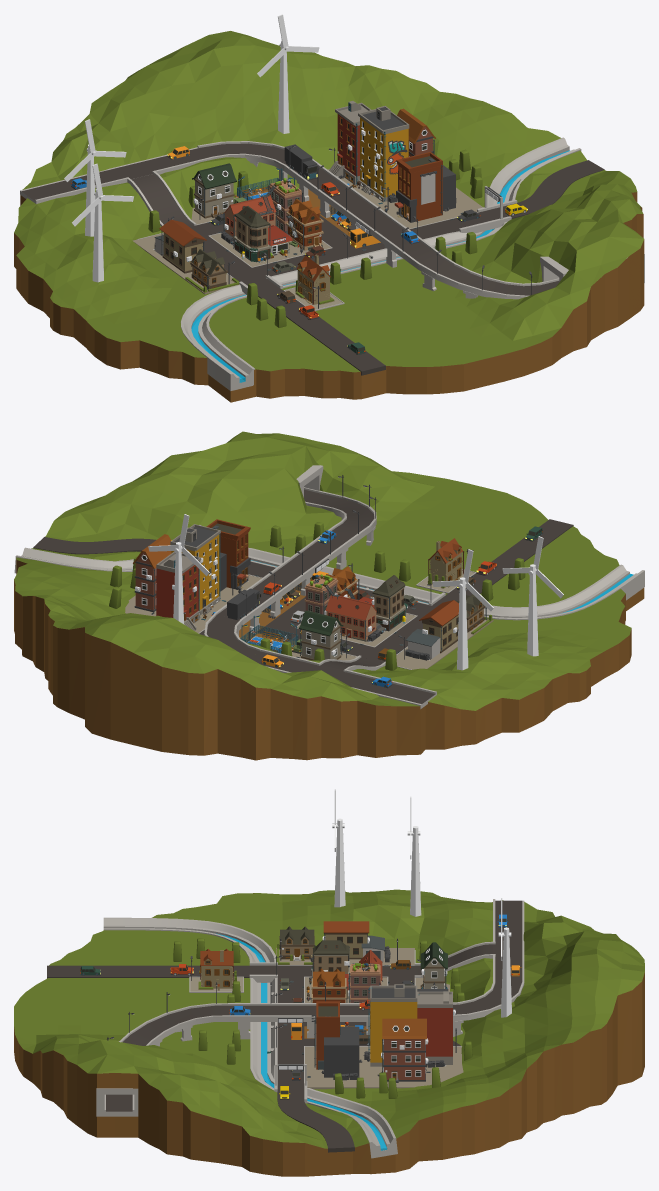
File: city.glb
3 views of the same model, one above another, from view 1: azimuth 30°, elevation 25°; view 2: azimuth 150°, elevation 25°; view 3: azimuth 270°, elevation 25° (orthographic). The views are drawn at different scales.
Visible parts, largest first — view 1: Plane1145, Line459_concret_0, Plane063_asphalt_0, Rectangle008, Rectangle036, Box16203_wall10_0, Rectangle034_asphalt_0, Line454_asphalt_0, Rectangle038, Rectangle034_concret_0, Plane1167_sidewalk_0, Line462_water_0 (+12 smaller); view 2: Plane1145, Line459_concret_0, Plane063_asphalt_0, Rectangle008, Rectangle036, Line454_asphalt_0, Box16216_Meat_0, Rectangle034_asphalt_0, Box16203_wall10_0, Rectangle035_asphalt_0, Plane1167_sidewalk_0, Cylinder1808_white_0 (+12 smaller); view 3: Plane1145, Line459_concret_0, Plane063_asphalt_0, Plane1167_sidewalk_0, Rectangle036, Line454_asphalt_0, Rectangle008, Box12217_black_0, Rectangle034_asphalt_0, Box16216_Meat_0, Box16203_wall10_0, Line462_water_0 (+14 smaller).
Part boxes in pixels (x1,y1,x2,y2): Plane1145: (14, 31, 644, 402); Line459_concret_0: (180, 137, 581, 390); Plane063_asphalt_0: (190, 213, 488, 375); Rectangle008: (284, 159, 420, 250); Rectangle036: (20, 147, 213, 203); Box16203_wall10_0: (360, 117, 408, 197); Rectangle034_asphalt_0: (397, 240, 559, 295); Line454_asphalt_0: (478, 160, 604, 220); Rectangle038: (126, 171, 196, 226); Rectangle034_concret_0: (393, 238, 558, 299); Plane1167_sidewalk_0: (327, 169, 482, 228); Line462_water_0: (191, 150, 569, 382); Plane1145: (14, 431, 644, 760); Line459_concret_0: (14, 547, 644, 620); Plane063_asphalt_0: (199, 519, 573, 662); Rectangle008: (215, 534, 350, 624); Rectangle036: (250, 649, 436, 709); Line454_asphalt_0: (33, 537, 155, 554); Box16216_Meat_0: (156, 565, 198, 619); Rectangle034_asphalt_0: (304, 490, 374, 541); Box16203_wall10_0: (171, 534, 219, 610); Rectangle035_asphalt_0: (207, 615, 259, 658); Plane1167_sidewalk_0: (125, 575, 261, 633); Cylinder1808_white_0: (457, 577, 468, 670); Plane1145: (14, 889, 644, 1176); Line459_concret_0: (103, 917, 397, 1158); Plane063_asphalt_0: (47, 965, 460, 1082); Plane1167_sidewalk_0: (305, 1046, 463, 1089); Rectangle036: (493, 899, 524, 983); Line454_asphalt_0: (277, 1083, 354, 1152); Rectangle008: (233, 1003, 369, 1021); Box12217_black_0: (324, 1026, 359, 1077); Rectangle034_asphalt_0: (123, 1005, 233, 1045); Box16216_Meat_0: (417, 1008, 452, 1056); Box16203_wall10_0: (370, 1002, 417, 1062); Line462_water_0: (216, 933, 387, 1150).
Bounding box in the file's own units: 137 × 41.23 × 141.
